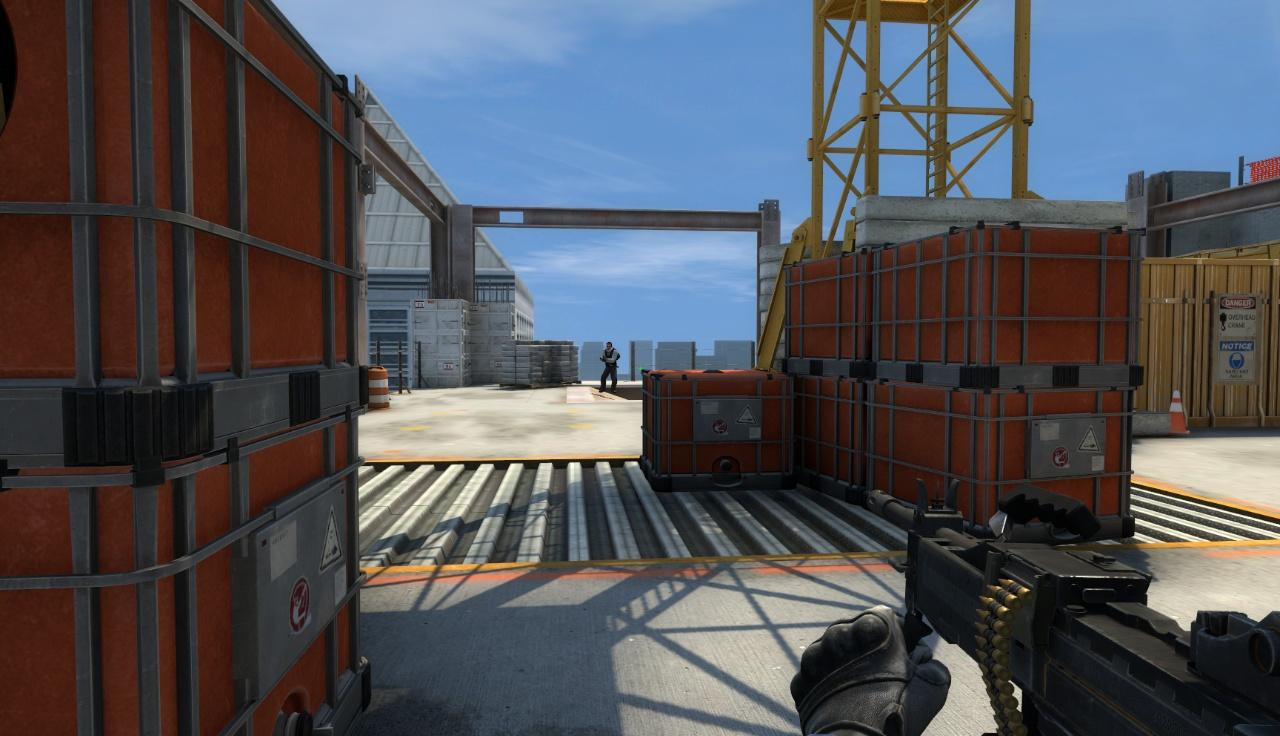rifle: (805, 478, 1279, 734)
tt: (599, 341, 619, 391)
tthead: (606, 342, 612, 350)
